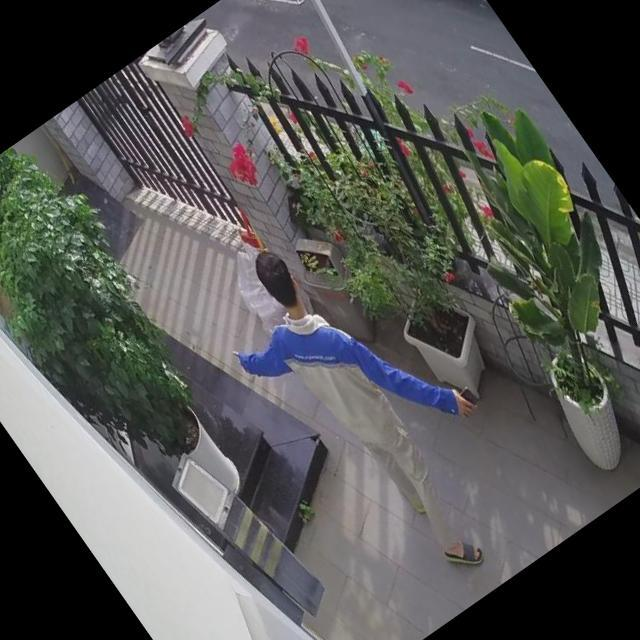person: (195, 199, 552, 608)
